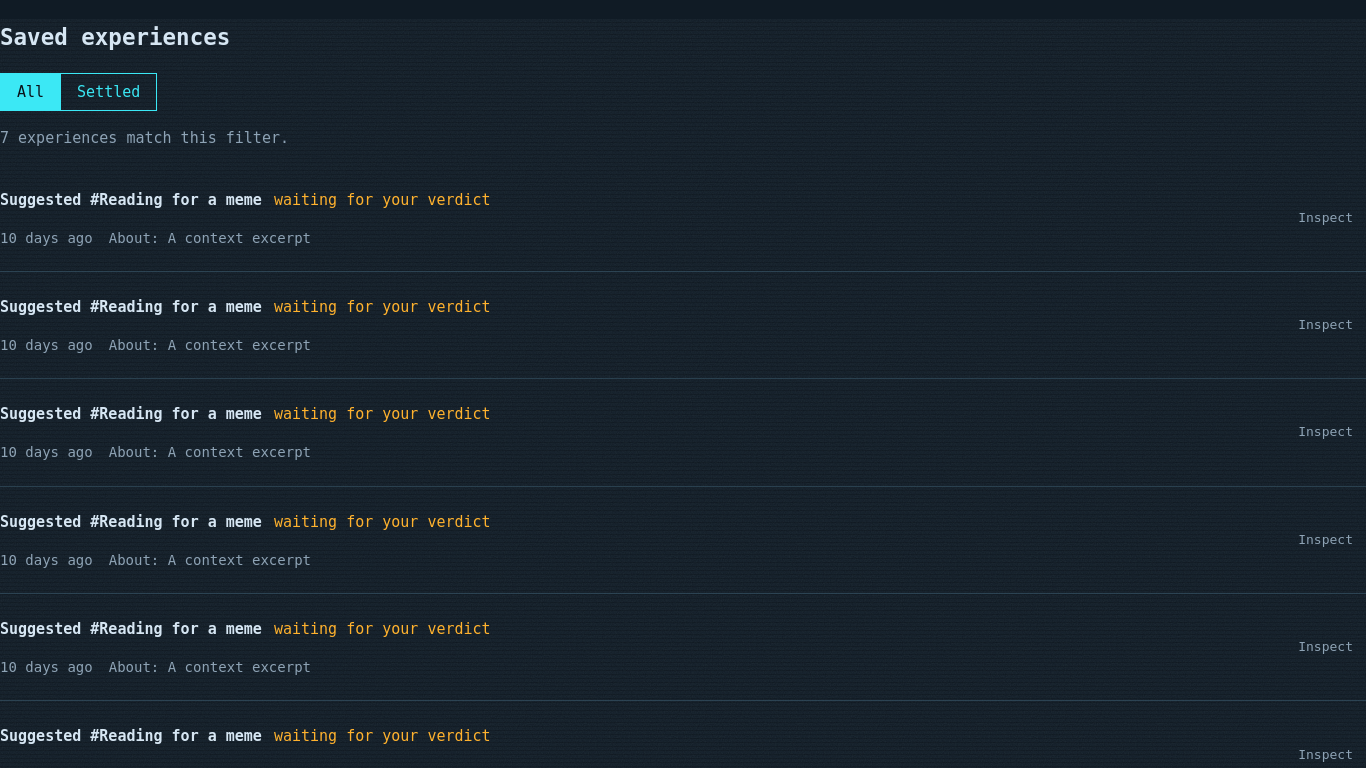
Test: saved experiences › lists the seven experiences, opens context as text and explains feedback without writing
Expected: the text "7 experiences match this filter." is shown, [0,128,289,146]
Click the button with aria-label "Inspect fixture:1".
click(1326, 218)  # box [1285,204,1365,231]
(page scrolled)
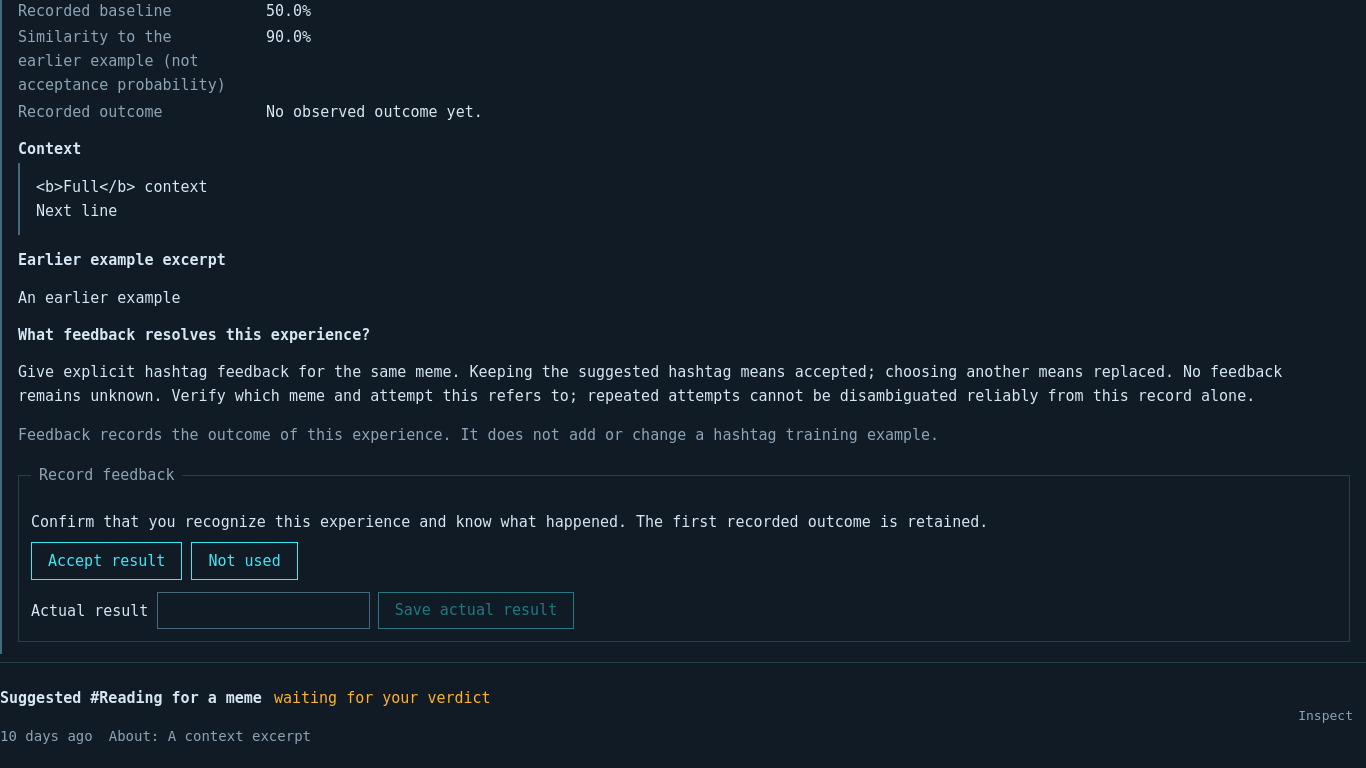
Expected: the text "50.0%" is shown, [266,2,311,20]
Expected: the text "90.0%" is shown, [266,28,311,46]
Expected: the text "No observed outcome yet." is shown, [266,103,483,121]
